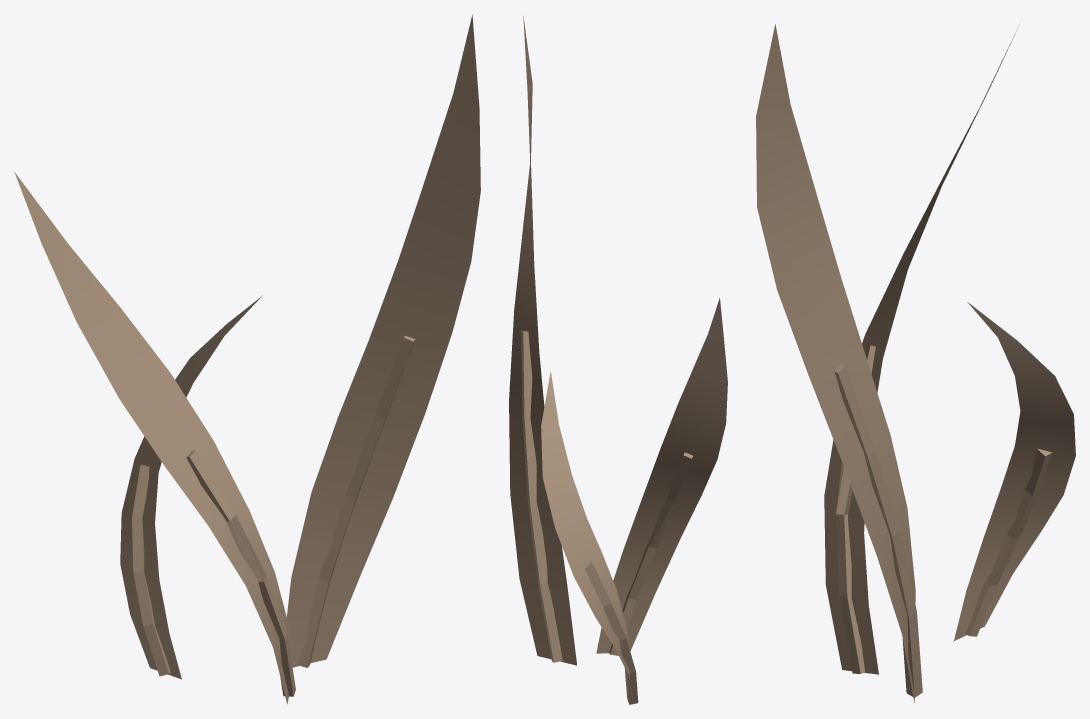
The model's file is kelp.glb.
3 renders of one model, left to right at view 1: azimuth 30°, elevation 25°; view 2: azimuth 150°, elevation 25°; view 3: azimuth 270°, elevation 25°, orthographic. The views are drawn at different scales.
Visible parts, largest first — view 1: kelp; view 2: kelp; view 3: kelp.
Part boxes in pixels (left/top/right/bottom): kelp: left=14, top=14, right=480, bottom=704; kelp: left=509, top=16, right=727, bottom=704; kelp: left=756, top=24, right=1075, bottom=703.
Size of the model in its own units: 1.36 by 2.56 by 1.02.
